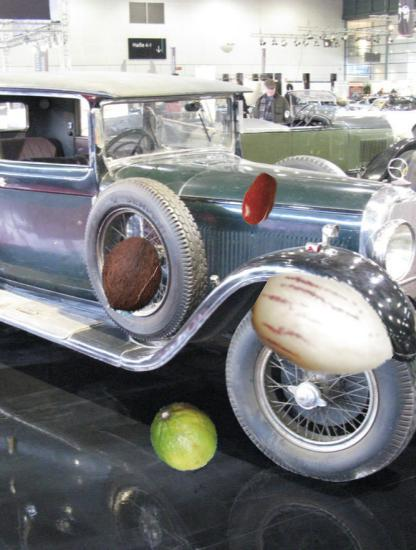Cocos: (93, 236, 172, 315)
Limes: (148, 400, 221, 473)
Pepino: (252, 255, 398, 401)
Tomato: (233, 173, 287, 227)
